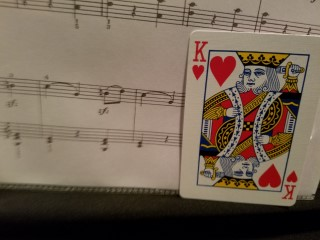KingOfHearts: (178, 29, 320, 207)
